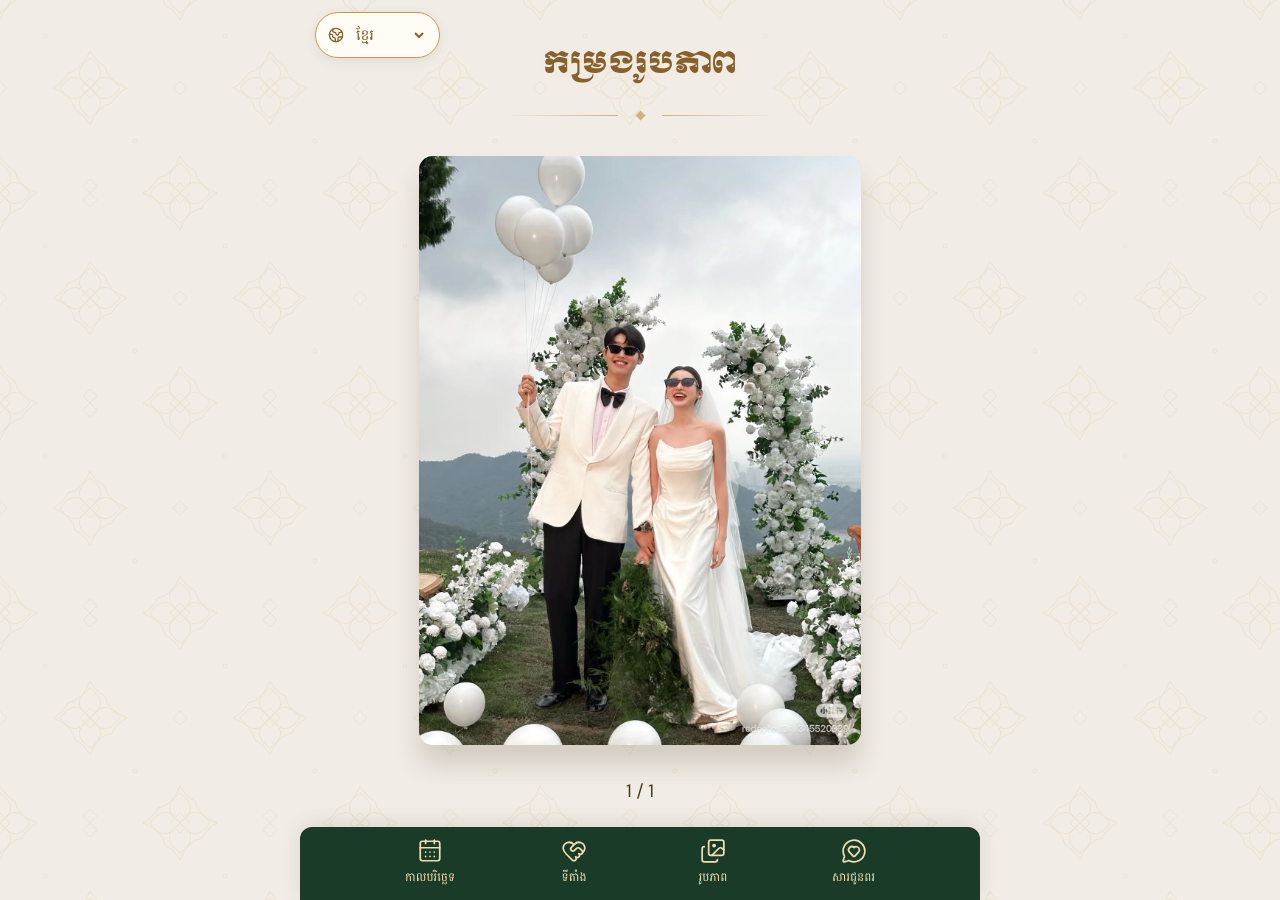
it: Royal Garden Cinematic layout › honors disabled sections and displays uploaded gallery images
(page scrolled)
Click the button named "ពង្រីករូបភាព": (640, 450) [419,156,861,745]
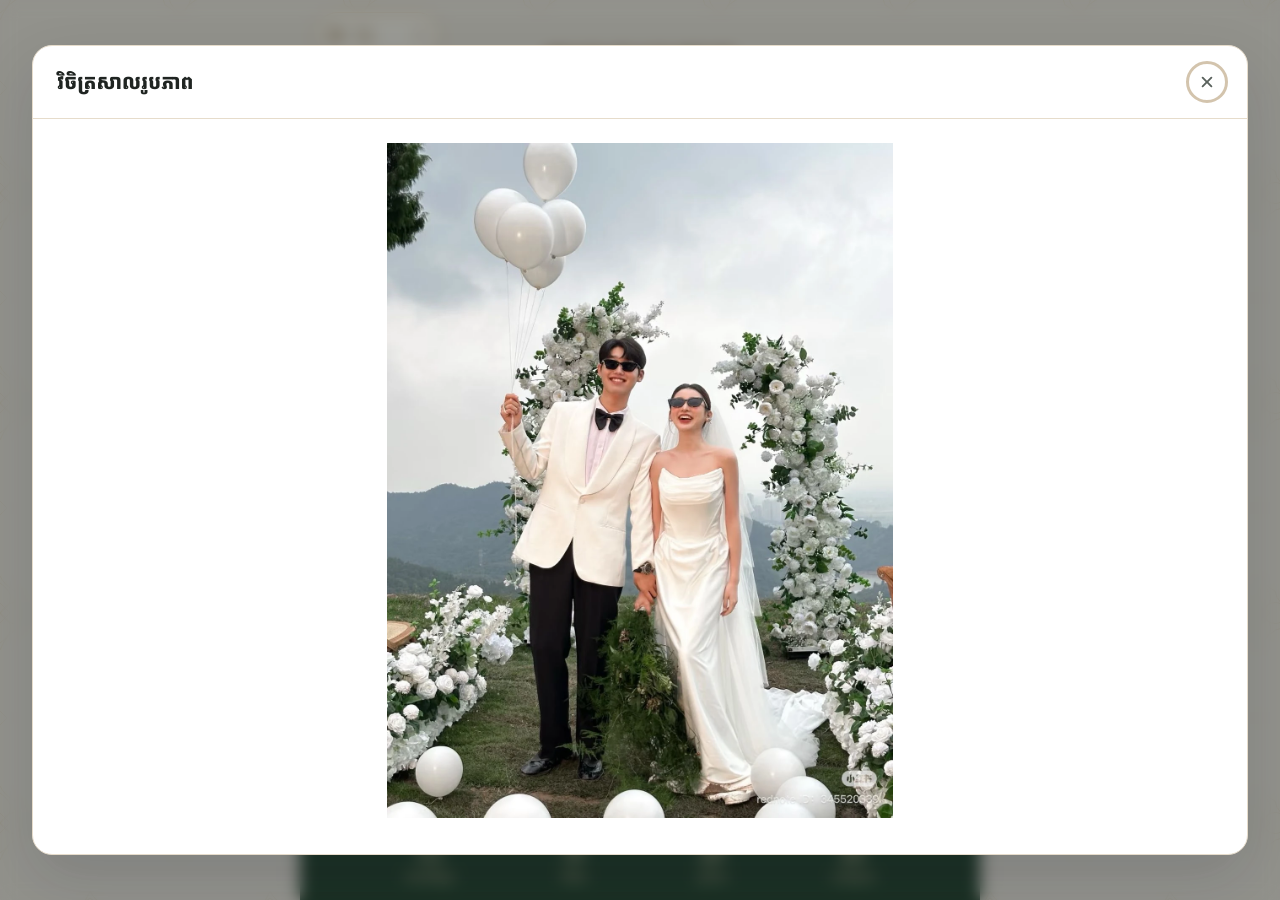
Expected: the dialog "វិចិត្រសាលរូបភាព" is shown
Click the button named "បិទរូបភាព": (1207, 82) [1191,66,1223,98]
(page scrolled)
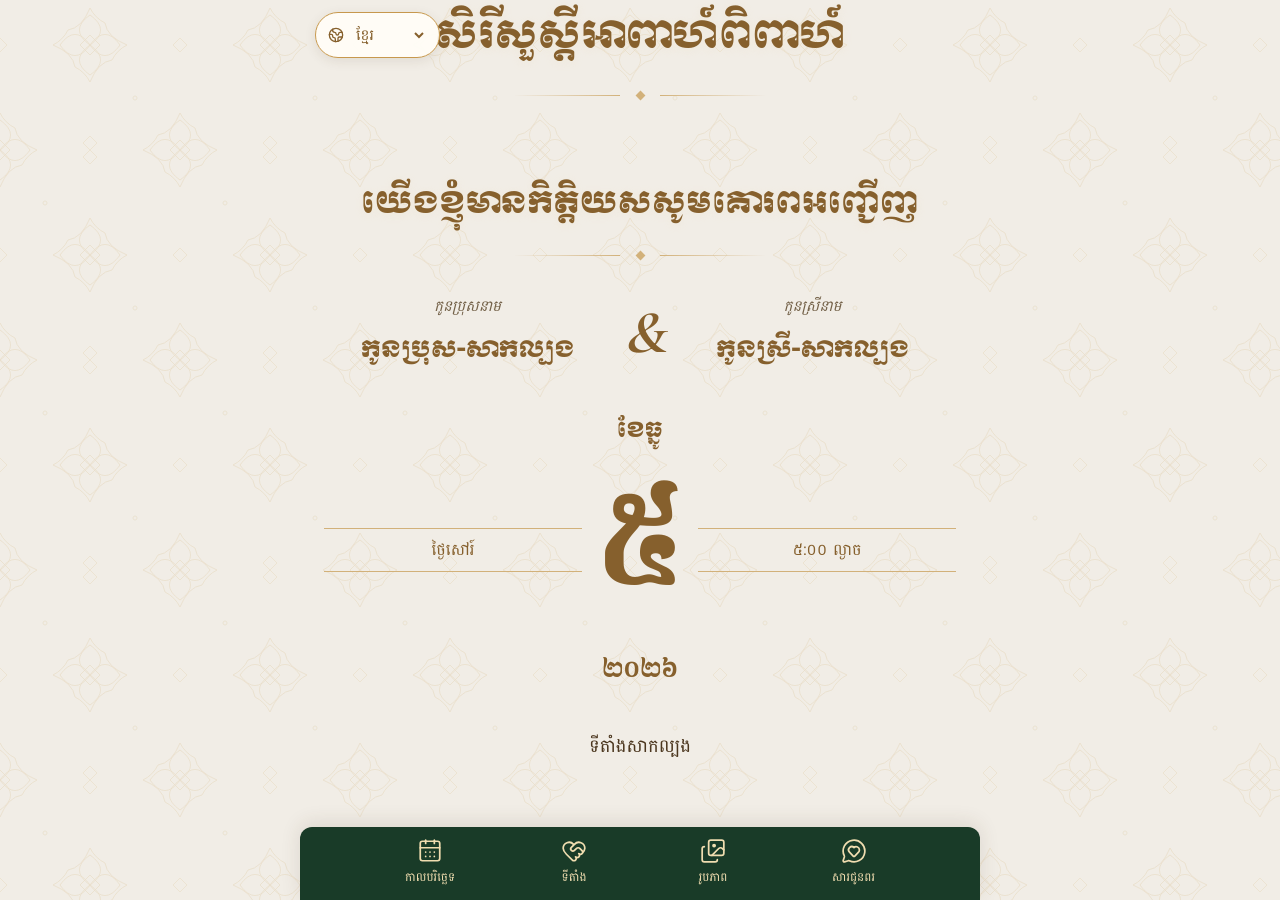
Expected: the heading "វិចិត្រសាលរូបភាព" is gone
